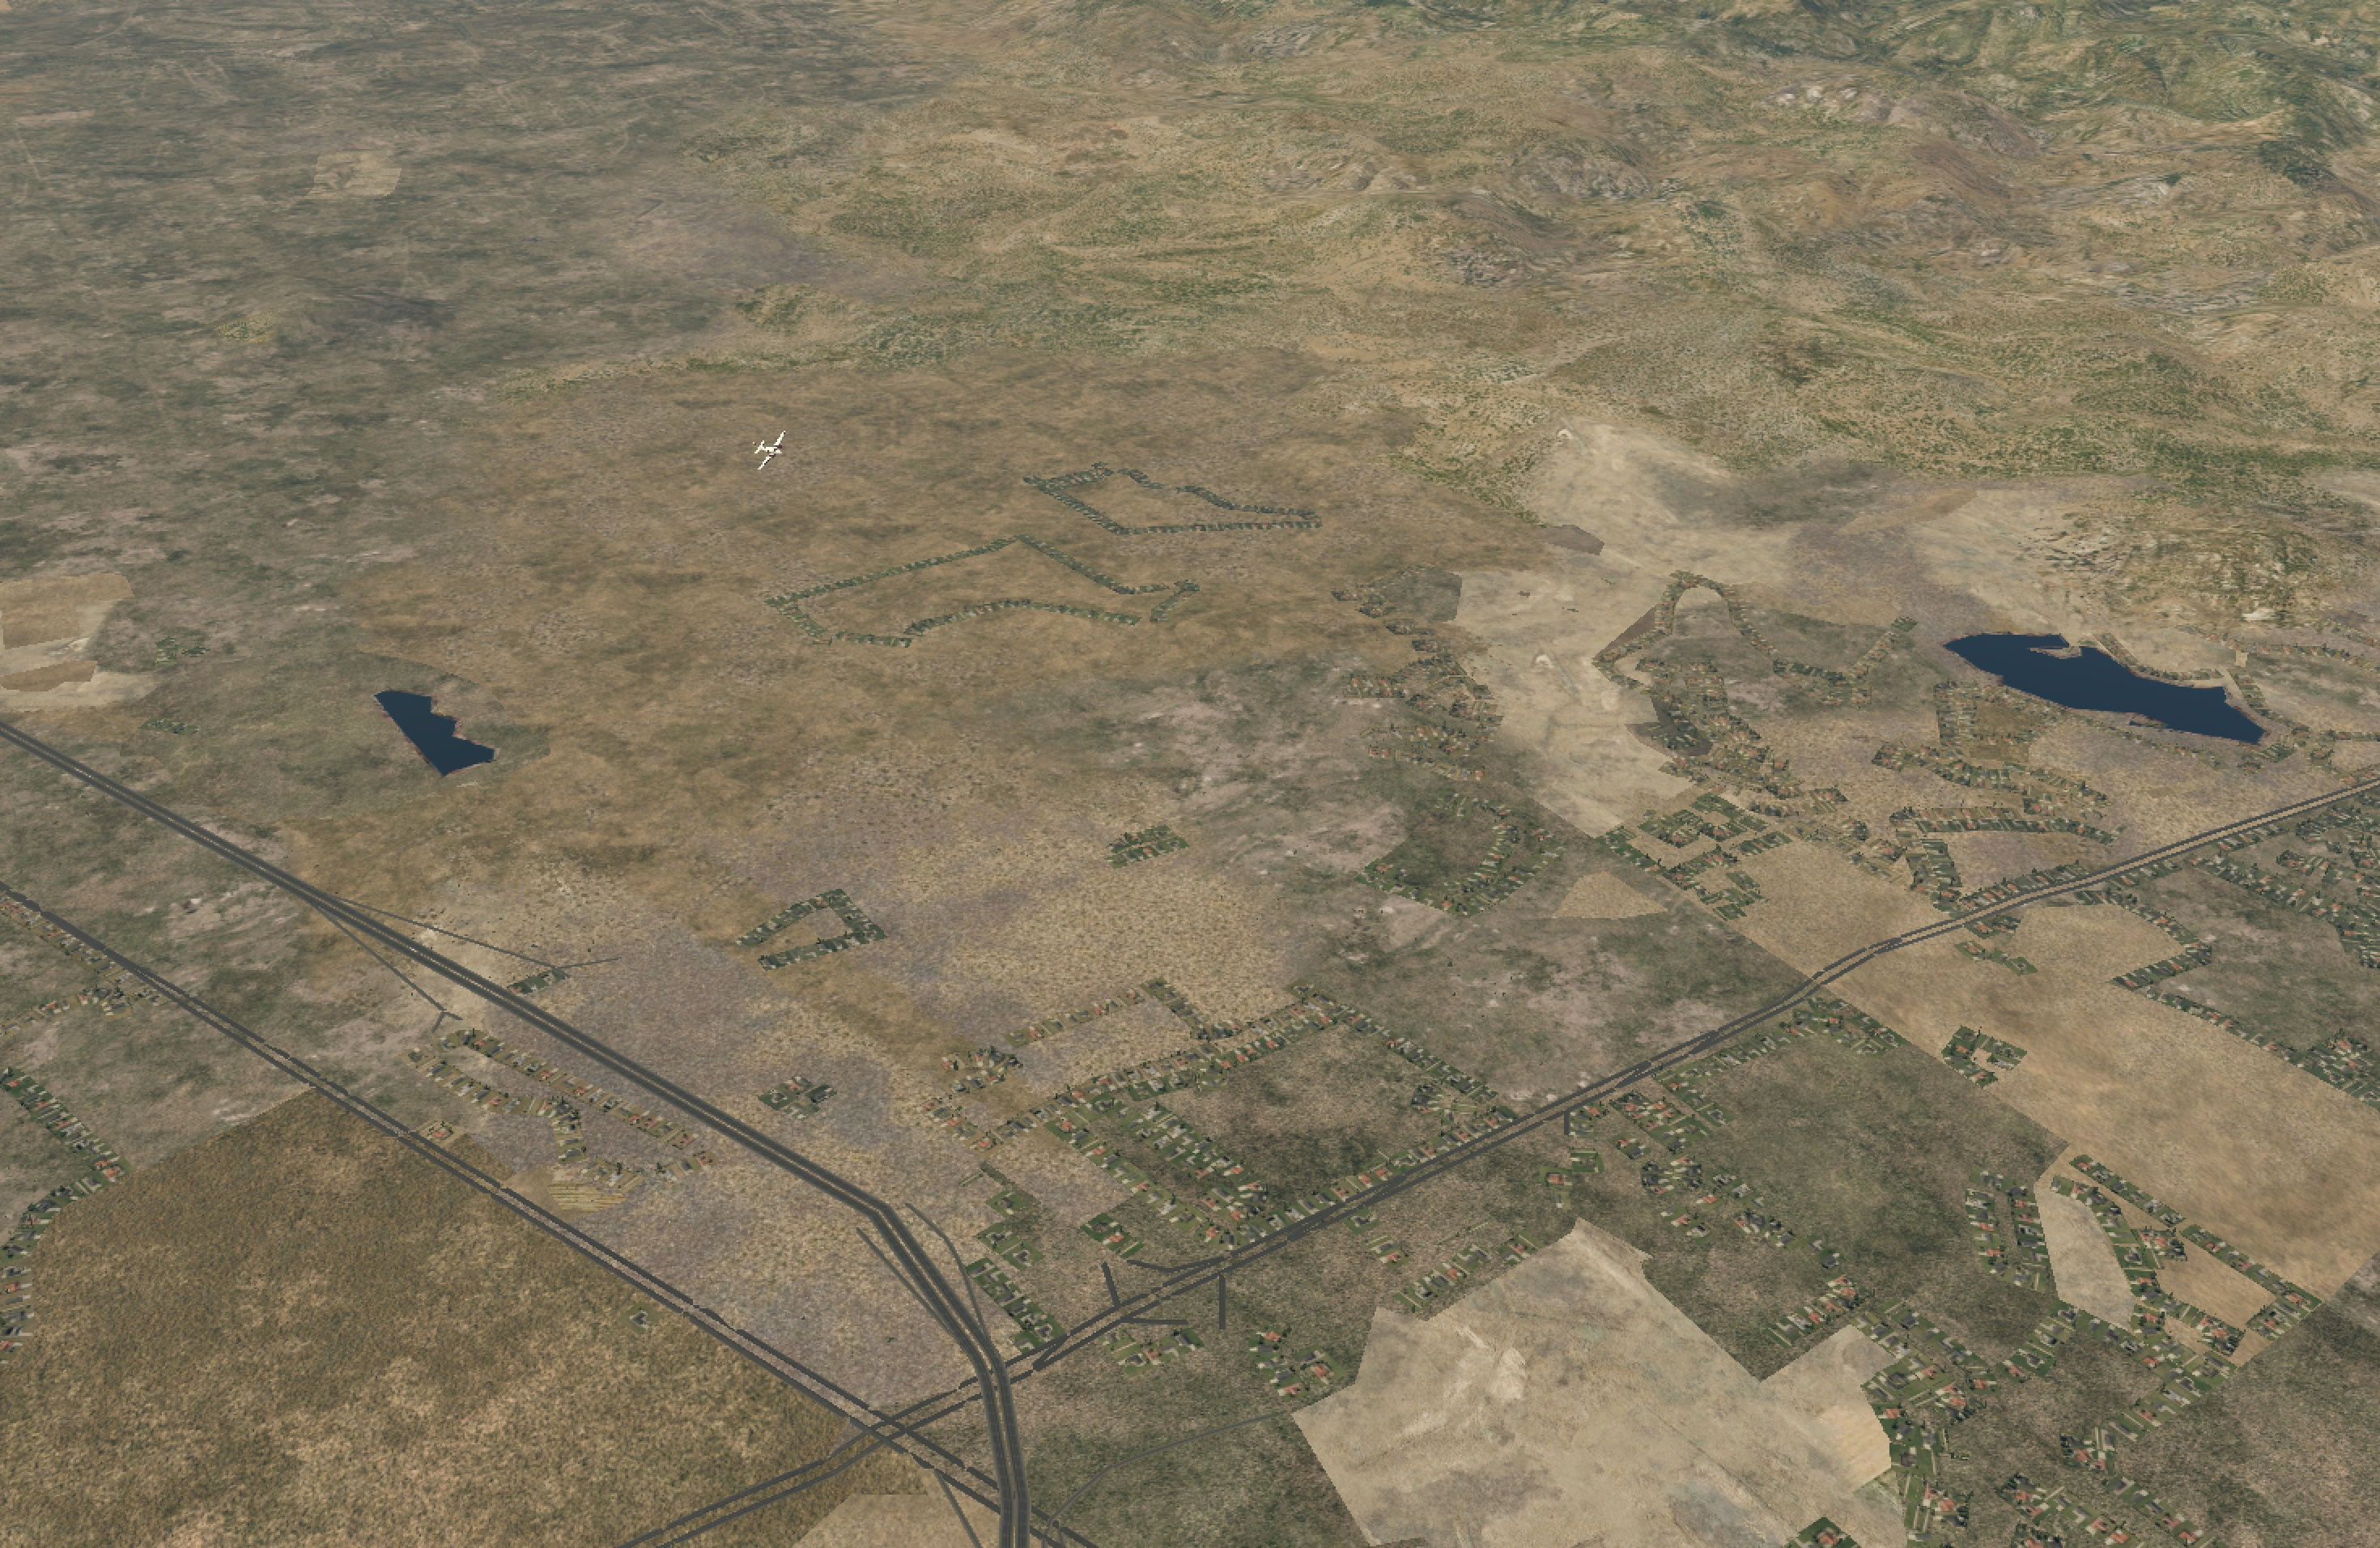aircraft: (749, 443, 800, 462)
